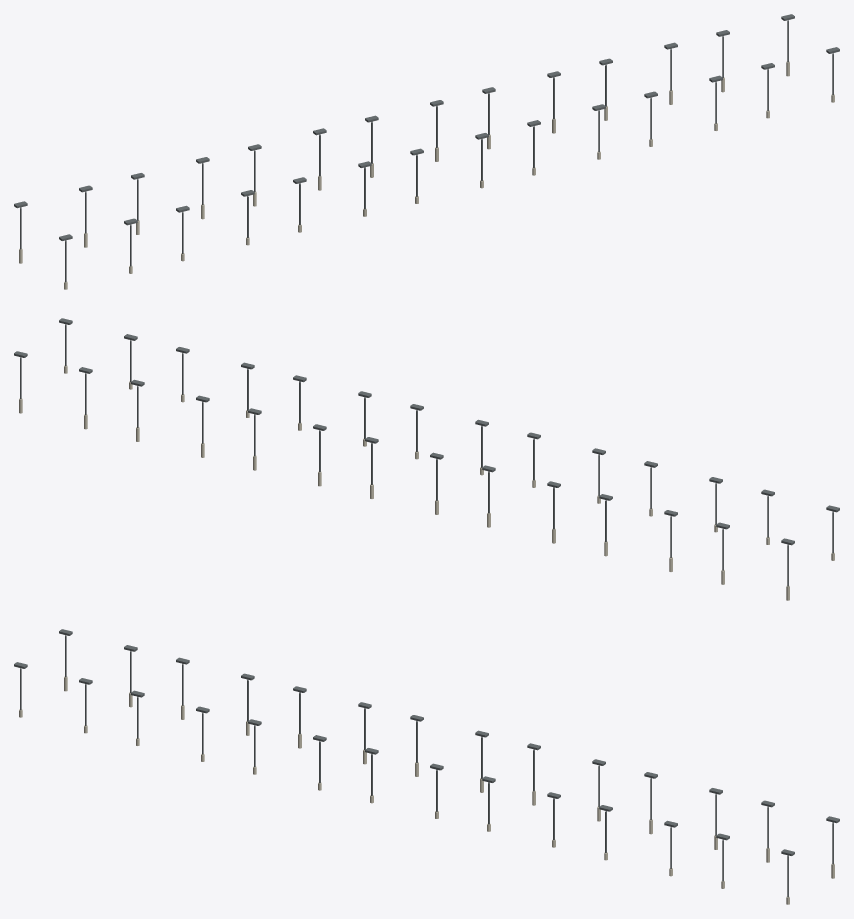
3 views of the same model, one above another, from view 1: azimuth 30°, elevation 25°; view 2: azimuth 150°, elevation 25°; view 3: azimuth 330°, elevation 25° (orthographic).
Parts seen in each view (by area): view 1: buildings_s_-10_0_Dark_Metal, buildings_s_-10_0_Warm_Limestone; view 2: buildings_s_-10_0_Dark_Metal, buildings_s_-10_0_Warm_Limestone; view 3: buildings_s_-10_0_Dark_Metal, buildings_s_-10_0_Warm_Limestone.
Part boxes in pixels (x1=…): buildings_s_-10_0_Dark_Metal: x1=14, y1=14, x2=839, y2=282; buildings_s_-10_0_Warm_Limestone: x1=19, y1=61, x2=834, y2=289; buildings_s_-10_0_Dark_Metal: x1=14, y1=318, x2=839, y2=586; buildings_s_-10_0_Warm_Limestone: x1=19, y1=365, x2=834, y2=600; buildings_s_-10_0_Dark_Metal: x1=14, y1=629, x2=839, y2=897; buildings_s_-10_0_Warm_Limestone: x1=19, y1=676, x2=834, y2=904.
Size of the model in its own units: 120 by 8.68 by 12.9.
